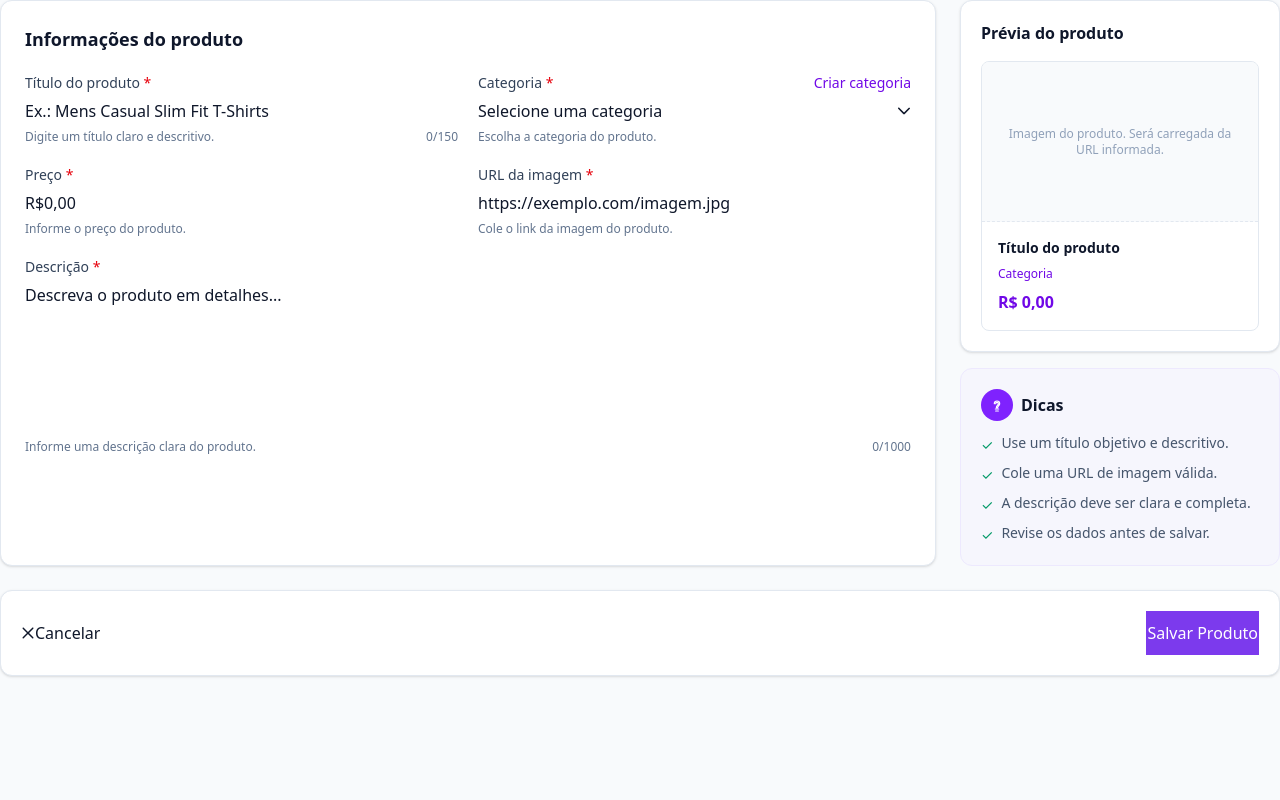
ProductForm › atualiza a prévia com o título informado
Type "Preview Title" into the field labelled "Título do produto *".
click(242, 111); type("Preview Title")  # box [25, 99, 458, 123]
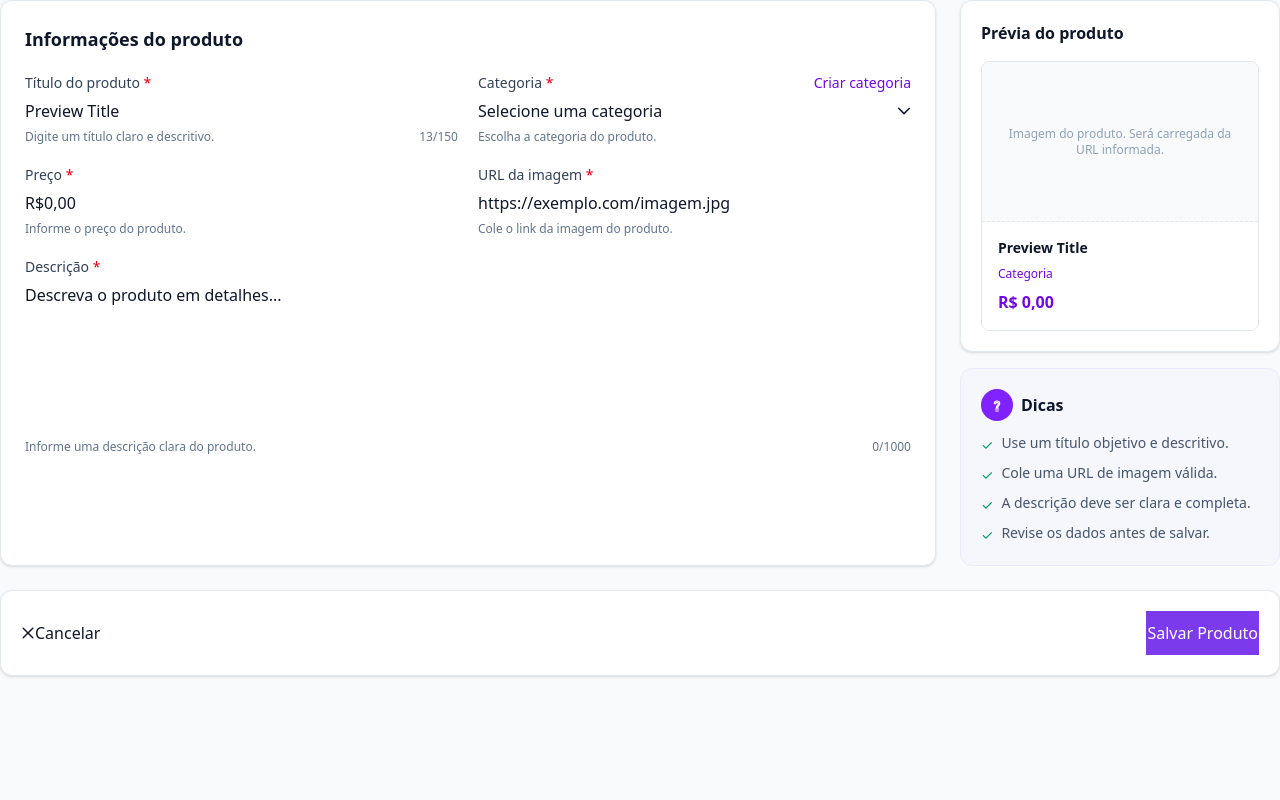
Expected: the heading "Prévia do produto" is shown, [981, 22, 1124, 44]
Now the text "Preview Title" is shown, box [998, 238, 1088, 257]
